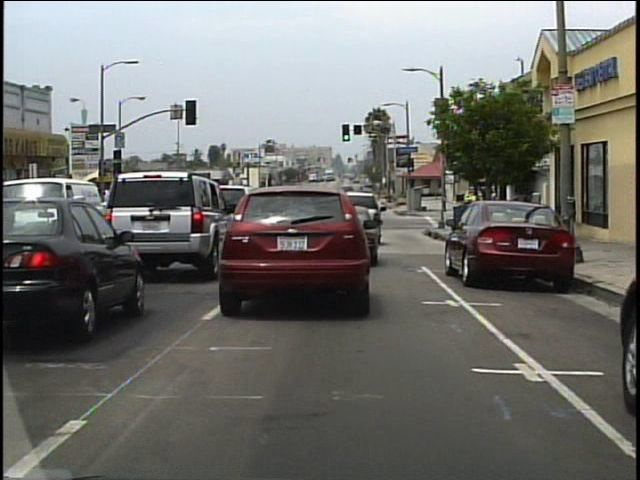person: (467, 195, 480, 241)
